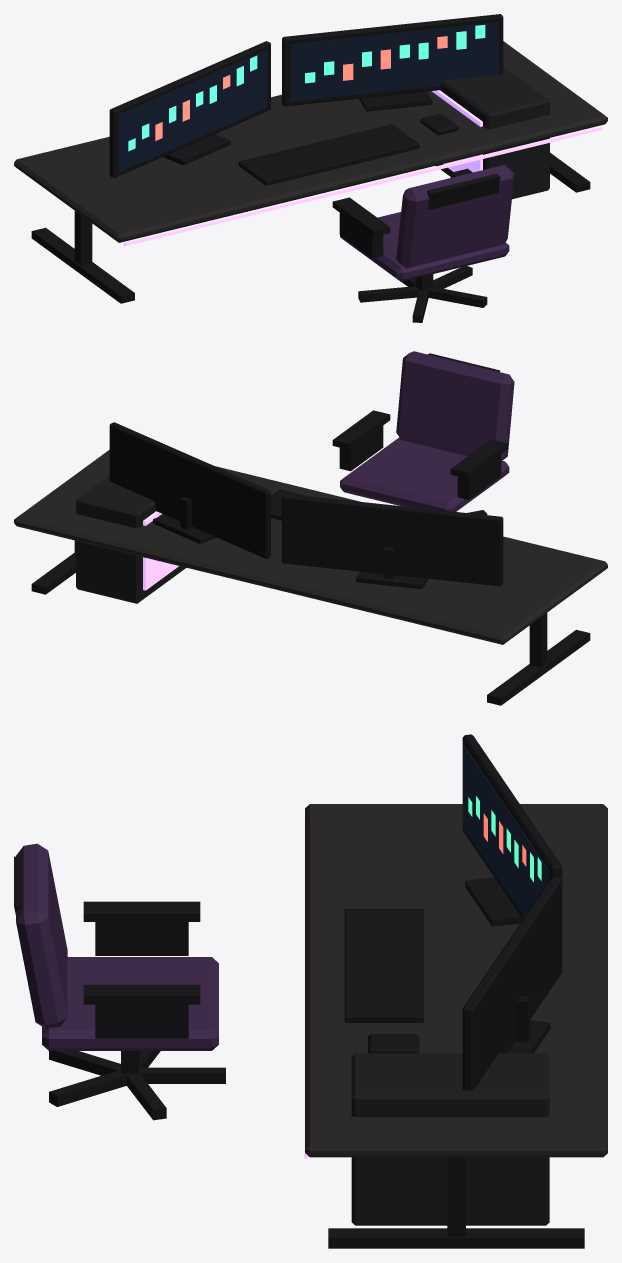
3 renders of one model, top to bottom at view 1: azimuth 30°, elevation 25°; view 2: azimuth 150°, elevation 25°; view 3: azimuth 270°, elevation 25°, orthographic. The views are drawn at different scales.
Parts seen in each view (by area): view 1: furniture_27_computer_desk; view 2: furniture_27_computer_desk; view 3: furniture_27_computer_desk.
Part boxes in pixels (x1,y1,x2,y2): furniture_27_computer_desk: (14,14,607,322); furniture_27_computer_desk: (14,351,607,705); furniture_27_computer_desk: (14,734,607,1248).
Bounding box in the file's own units: 3.47 × 1 × 2.52.
